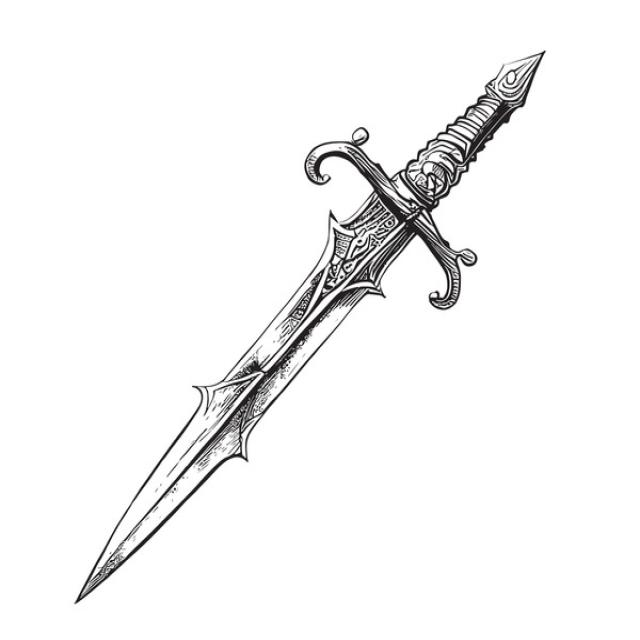Gun: (74, 48, 554, 640)
